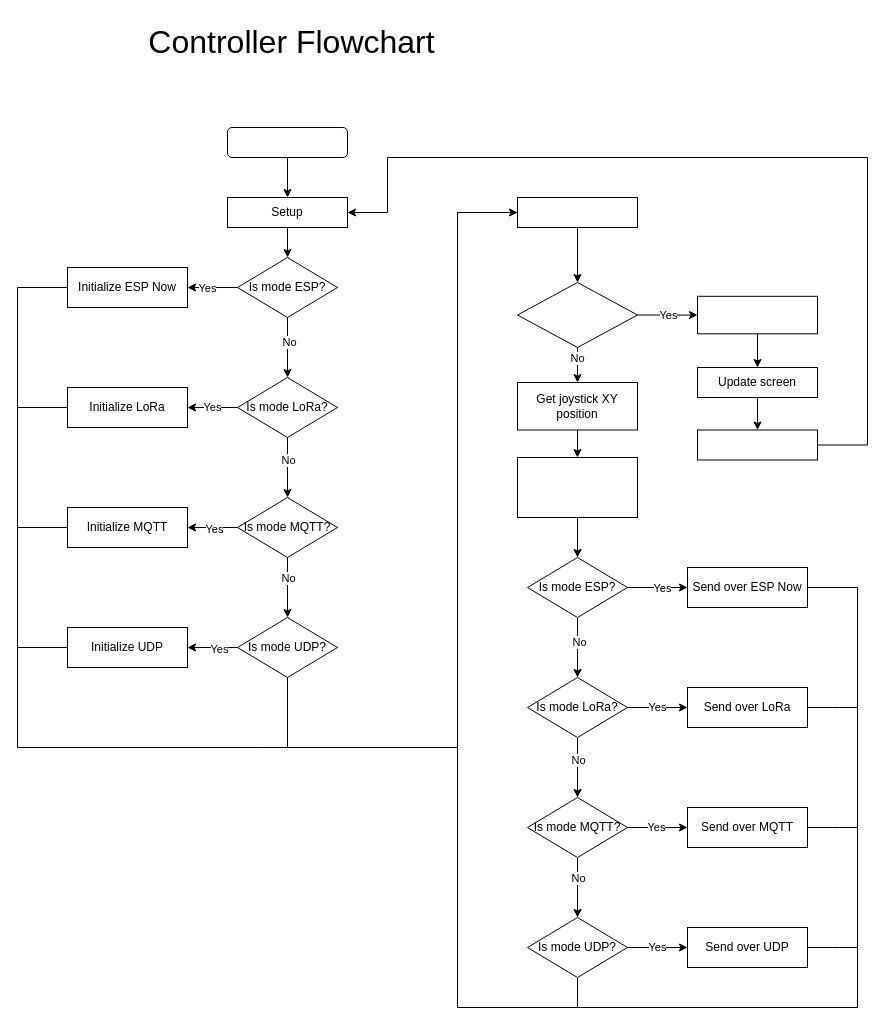
The diagram is 893 pixels wide and 1033 high, and some of its shapes have lost their labels. Each missing label, with the centre of its shape:
Button pushed?: (x=577, y=315)
Compute direction from XY position: (x=577, y=487)
Loop: (x=577, y=212)
Run setup: (x=757, y=444)
Switch to next mode: (x=757, y=314)
Turn on controller: (x=287, y=142)
